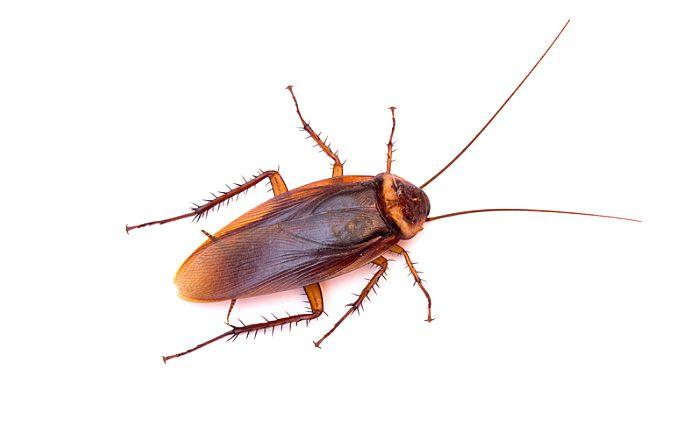cockroach: (173, 172, 433, 314)
